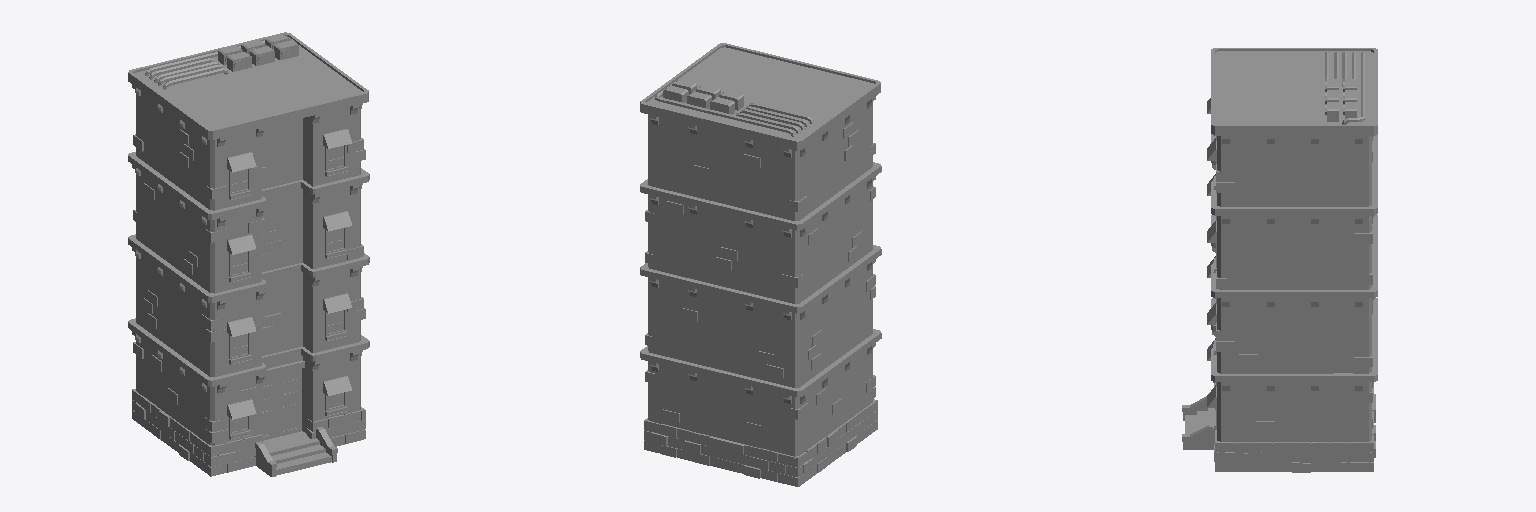
File: 4Story_Center.obj
3 views of the same model, side by side, from view 1: azimuth 30°, elevation 25°; view 2: azimuth 150°, elevation 25°; view 3: azimuth 270°, elevation 25° (orthographic).
Visible parts, largest first — view 1: 4Story_Center_Cube.027; view 2: 4Story_Center_Cube.027; view 3: 4Story_Center_Cube.027.
Boxes of the visible parts, <box> form: 4Story_Center_Cube.027: <box>128,32,369,476</box>; 4Story_Center_Cube.027: <box>640,43,881,486</box>; 4Story_Center_Cube.027: <box>1182,48,1377,472</box>.
Bounding box in the file's own units: 2.42 × 5.09 × 2.53.